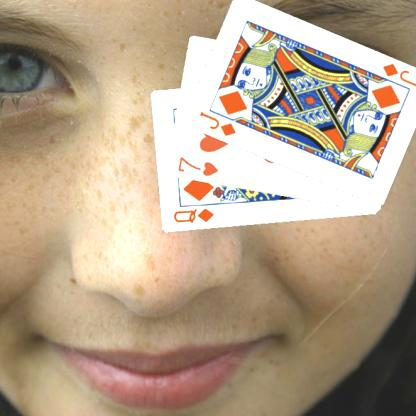7H: (174, 154, 219, 178)
JD: (196, 108, 237, 138), (379, 60, 416, 90)
QD: (170, 205, 215, 225)
